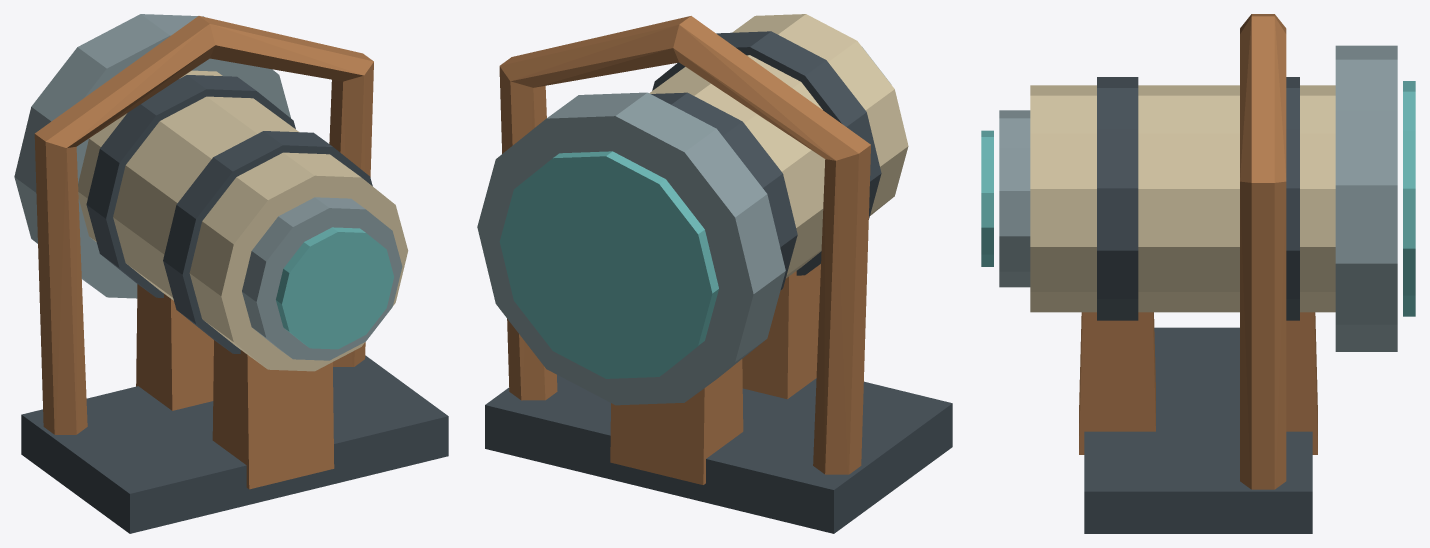
File: AEW_Scope_PilgrimMonocle.fbx
3 renders of one model, left to right at view 1: azimuth 30°, elevation 25°; view 2: azimuth 150°, elevation 25°; view 3: azimuth 270°, elevation 25°, orthographic. The views are drawn at different scales.
Visible parts, largest first — view 1: AEW_Scope_PilgrimMonocle; view 2: AEW_Scope_PilgrimMonocle; view 3: AEW_Scope_PilgrimMonocle.
Boxes of the visible parts, bbox=[...] form: AEW_Scope_PilgrimMonocle: bbox=[14, 14, 448, 533]; AEW_Scope_PilgrimMonocle: bbox=[477, 14, 952, 533]; AEW_Scope_PilgrimMonocle: bbox=[981, 14, 1415, 533].
Size of the model in its own units: 0.1545 by 0.1858 by 0.168.
